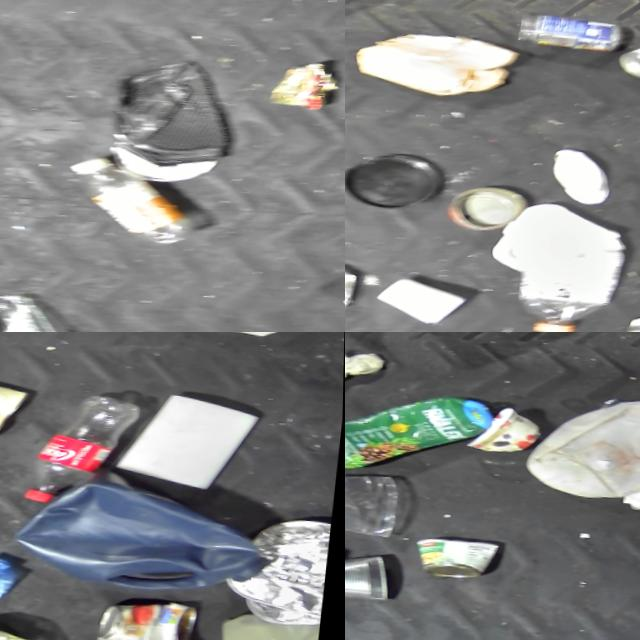can: (442, 184, 533, 240), (411, 533, 505, 585), (97, 597, 201, 640), (345, 547, 397, 606), (0, 368, 34, 447)
milk_jug: (519, 388, 640, 515), (205, 610, 323, 640)
non_white_jug: (9, 456, 282, 609), (347, 26, 523, 111)
plastic_bottle: (22, 389, 146, 514)
